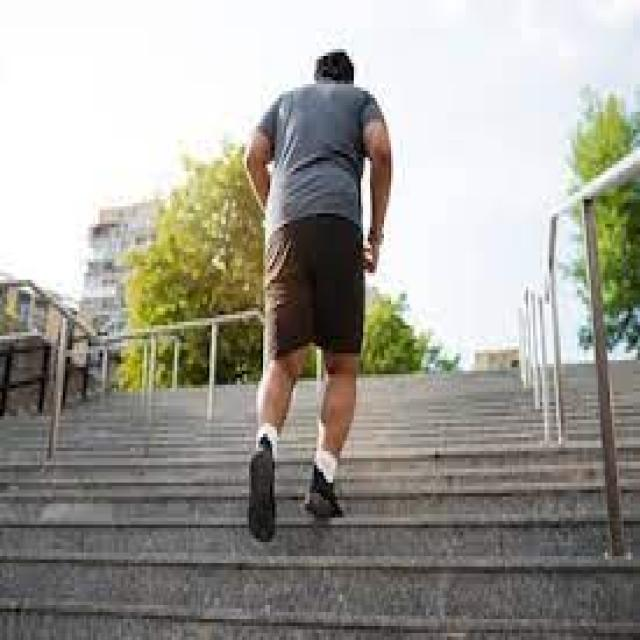Person: (244, 50, 392, 542)
